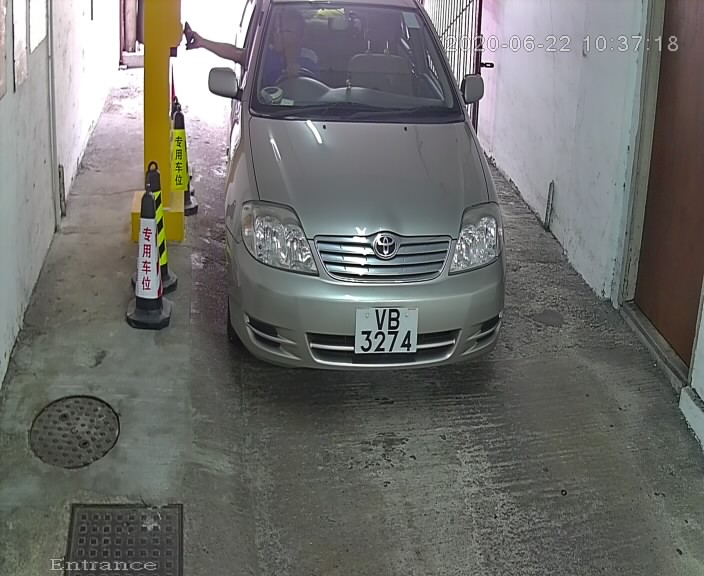privatecar: (186, 1, 536, 412)
